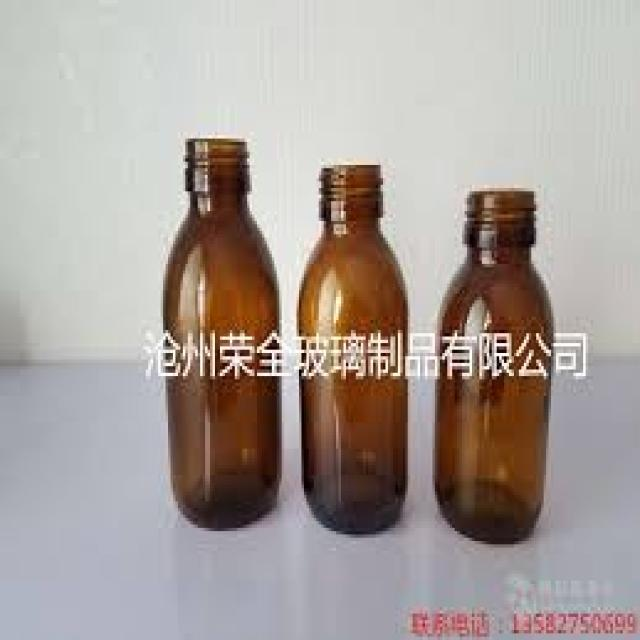glass: (158, 135, 274, 525), (435, 188, 551, 544), (294, 162, 405, 531)
